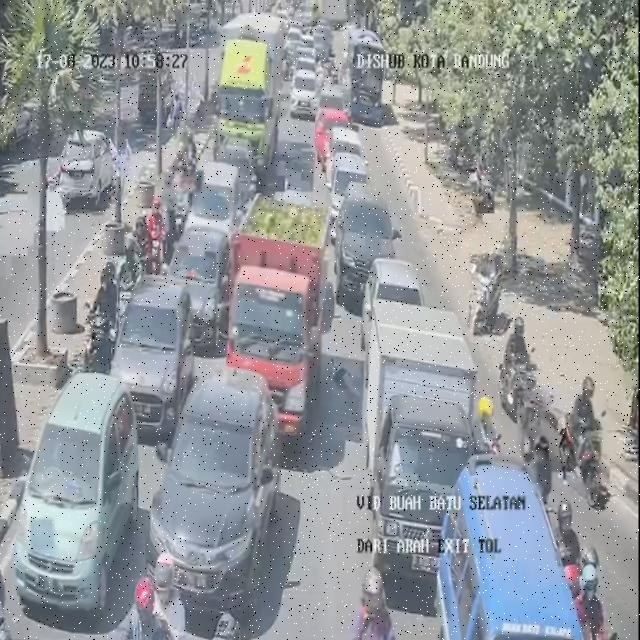bus: (346, 26, 384, 128)
cars: (153, 367, 281, 607), (17, 373, 136, 611), (437, 457, 584, 640), (118, 266, 186, 422), (179, 228, 228, 338), (181, 161, 239, 251), (339, 185, 383, 296), (368, 256, 417, 342), (332, 155, 370, 228), (220, 133, 256, 197), (316, 114, 350, 152), (293, 65, 316, 118), (311, 80, 342, 117), (327, 127, 355, 165), (298, 40, 316, 76), (314, 22, 334, 54), (290, 18, 302, 40)
motorcycle: (120, 537, 184, 640), (338, 551, 406, 640), (570, 372, 606, 499), (85, 252, 125, 361), (564, 543, 604, 640), (468, 242, 508, 335), (498, 317, 532, 409), (518, 408, 549, 500), (544, 492, 582, 565), (115, 226, 142, 305), (162, 157, 192, 219), (143, 190, 167, 264), (474, 386, 492, 468), (175, 122, 195, 174), (130, 215, 148, 271)
truck: (361, 286, 485, 584), (229, 201, 331, 432), (209, 13, 286, 173), (302, 0, 355, 25)
